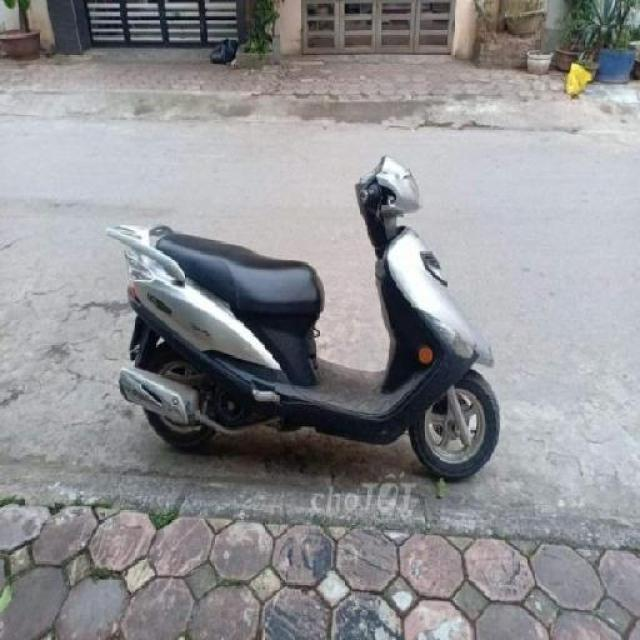All: (102, 153, 501, 480)
Head: (352, 157, 423, 221)
Tail: (106, 215, 176, 286)
